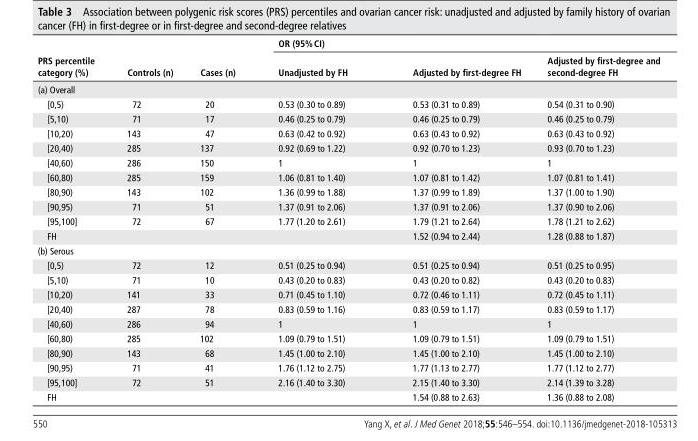table: (36, 37, 659, 402)
table column: (379, 37, 533, 402), (533, 37, 659, 402), (256, 37, 379, 402), (110, 37, 185, 402), (36, 37, 110, 402), (185, 37, 256, 402)
table column header: (36, 37, 659, 80)
table projected row header: (36, 80, 659, 96), (36, 242, 659, 257)
table row: (36, 51, 659, 80), (36, 80, 659, 96), (36, 96, 659, 111), (36, 125, 659, 140), (36, 154, 659, 169), (36, 169, 659, 184), (36, 198, 659, 213), (36, 213, 659, 228), (36, 242, 659, 257), (36, 257, 659, 272), (36, 286, 659, 301), (36, 301, 659, 316), (36, 330, 659, 345), (36, 345, 659, 360), (36, 374, 659, 389), (36, 37, 659, 51), (36, 111, 659, 125), (36, 140, 659, 154), (36, 184, 659, 198), (36, 228, 659, 242), (36, 272, 659, 286), (36, 316, 659, 330), (36, 360, 659, 374), (36, 389, 659, 402)
table spanning cell: (256, 37, 659, 51), (110, 37, 185, 80), (36, 37, 110, 80), (185, 37, 256, 80)
